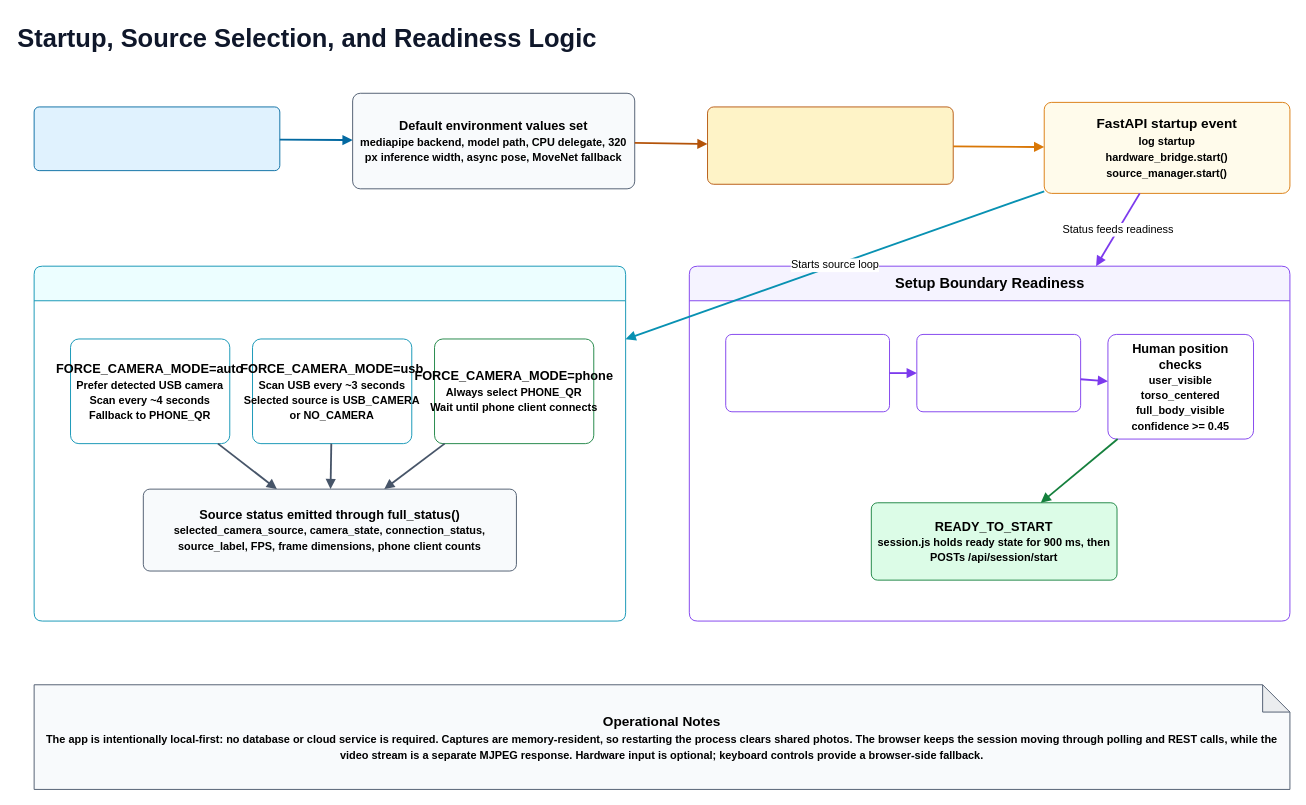
The diagram is 1306 pixels wide and 805 high, and some of its shapes have lost their labels. The box of each missing label's shape, as (x1, y1, x2, y2) in pixels:
App Lab / local python starts python/main.py: (33, 106, 280, 171)
Camera must be ACTIVE Otherwise NO_CAMERA or WAITING_FOR_CAMERA: (725, 334, 890, 412)
Camera Source Selection Loop: (33, 265, 626, 621)
Pose model ready and fresh pose_enabled, model_loaded, last_pose age <= 2 sec: (916, 334, 1081, 412)
Uvicorn runs app.main:app APP_HOST default 0.0.0.0 APP_PORT default 8000: (707, 106, 953, 184)
